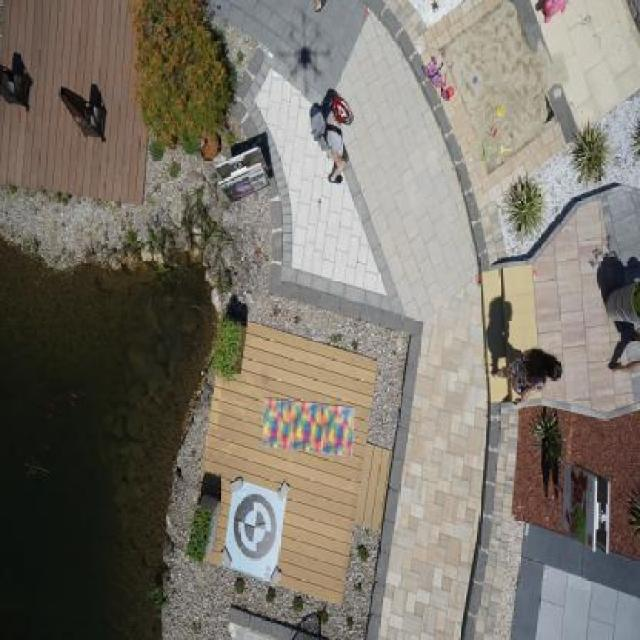Person: (298, 90, 360, 196), (486, 345, 571, 409)
